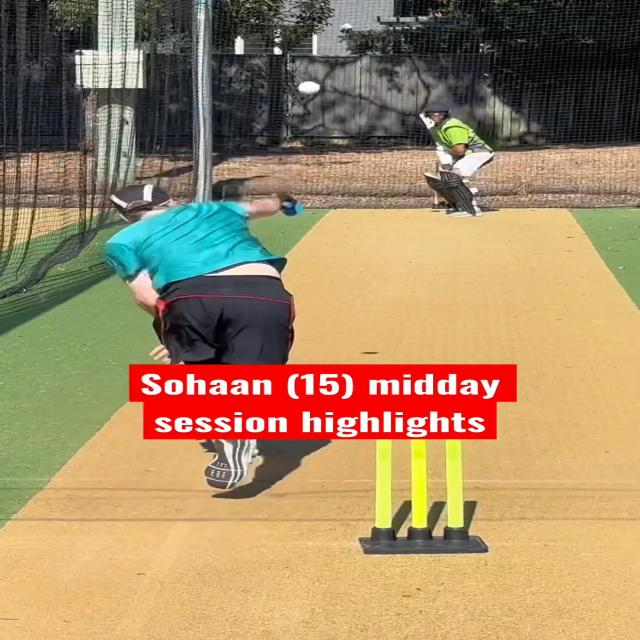ball: (297, 80, 321, 95)
stump: (365, 439, 483, 554)
